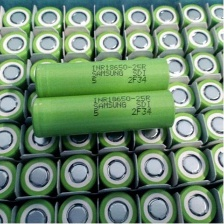battery: (29, 87, 178, 139), (32, 56, 172, 101), (136, 145, 176, 199), (98, 150, 137, 202), (58, 152, 97, 203), (173, 143, 212, 194), (184, 48, 222, 99), (0, 1, 38, 52), (17, 157, 61, 199), (174, 183, 219, 223), (134, 185, 180, 224), (21, 121, 61, 162), (136, 117, 173, 161), (53, 190, 100, 224), (32, 27, 65, 75), (170, 109, 205, 154), (62, 31, 97, 76), (63, 3, 95, 52), (96, 122, 133, 164), (0, 55, 31, 105), (179, 24, 215, 67), (0, 27, 35, 71), (191, 76, 224, 122), (159, 51, 190, 99), (33, 2, 64, 50), (0, 85, 32, 131), (97, 188, 139, 223), (123, 28, 157, 71), (124, 3, 152, 54), (94, 4, 123, 53), (153, 26, 186, 69), (95, 31, 126, 74), (62, 125, 97, 162), (12, 194, 55, 224), (178, 1, 209, 40), (152, 1, 178, 47), (0, 121, 29, 160), (202, 106, 224, 153), (201, 2, 223, 48), (0, 158, 24, 199)
